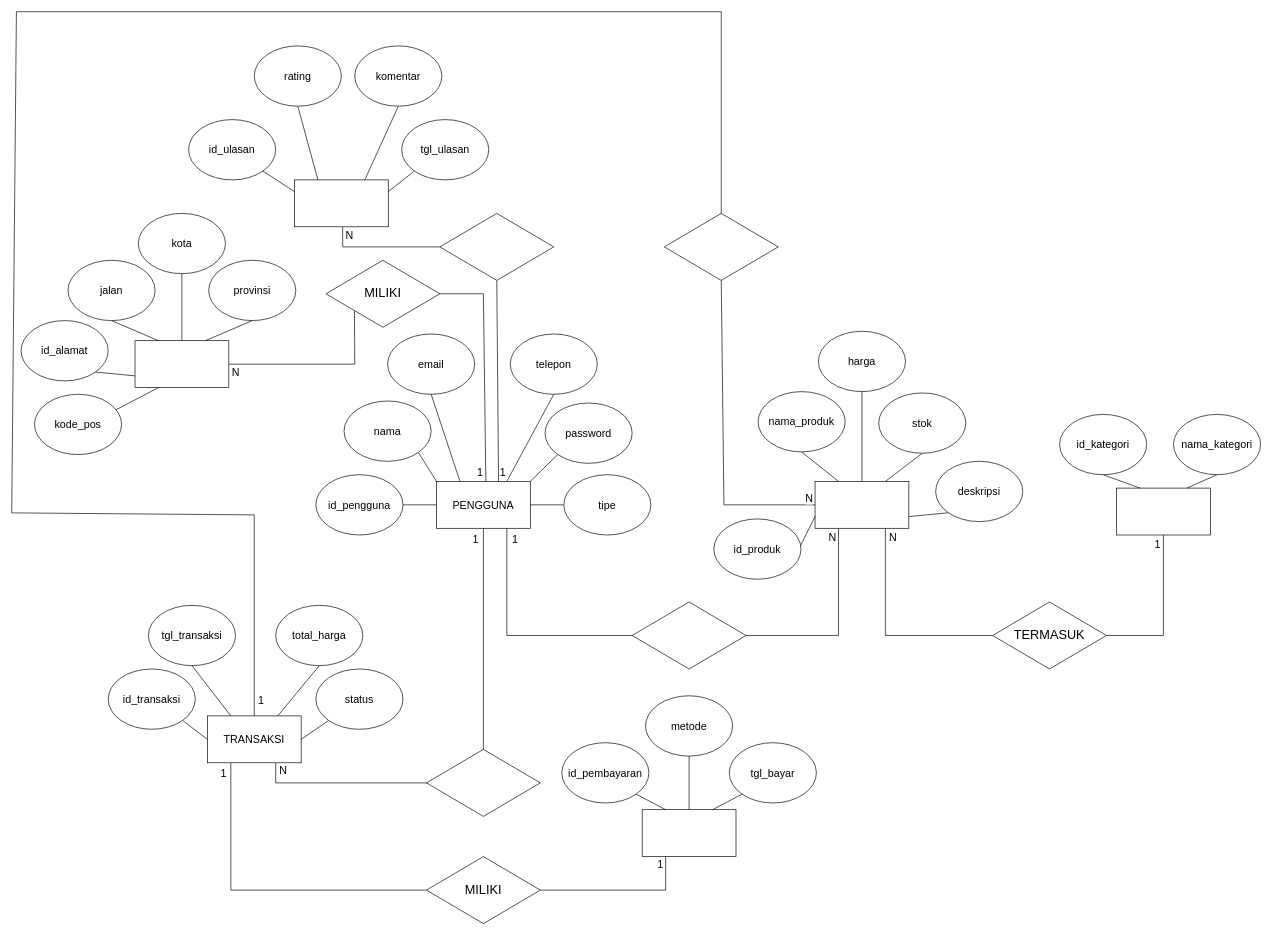
This 1272x935 diagram has some shape labels left out. Each missing label, with the centre of its shape:
"ALAMAT" belongs at [181,364].
"BERISI" belongs at [721,246].
"JUAL" belongs at [688,635].
"KATEGORI" belongs at [1163,511].
"LAKUKAN" belongs at [483,782].
"MENULIS" belongs at [496,246].
"PEMBAYARAN" belongs at [689,833].
"PRODUK" belongs at [861,504].
"ULASAN" belongs at [341,203].
